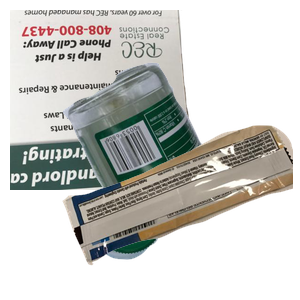glass: (60, 60, 300, 240)
paper: (10, 10, 201, 190)
plastic: (81, 179, 239, 300)
trash: (60, 123, 300, 300)
